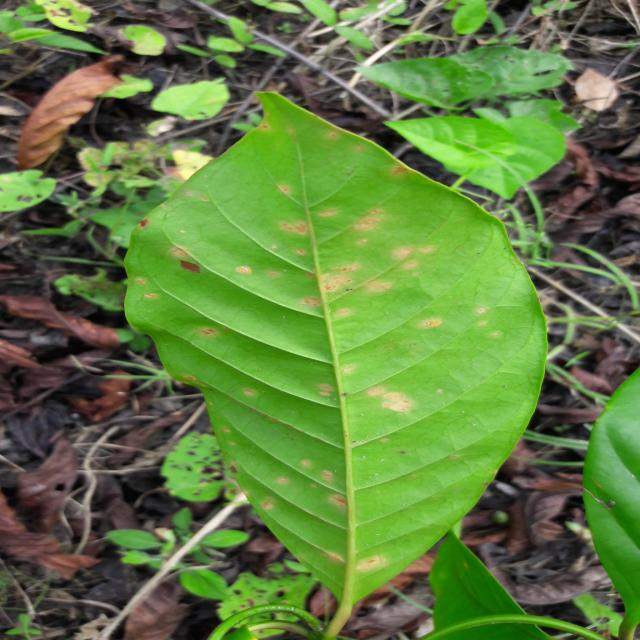Enfermedad-Roya: (124, 92, 549, 606)
